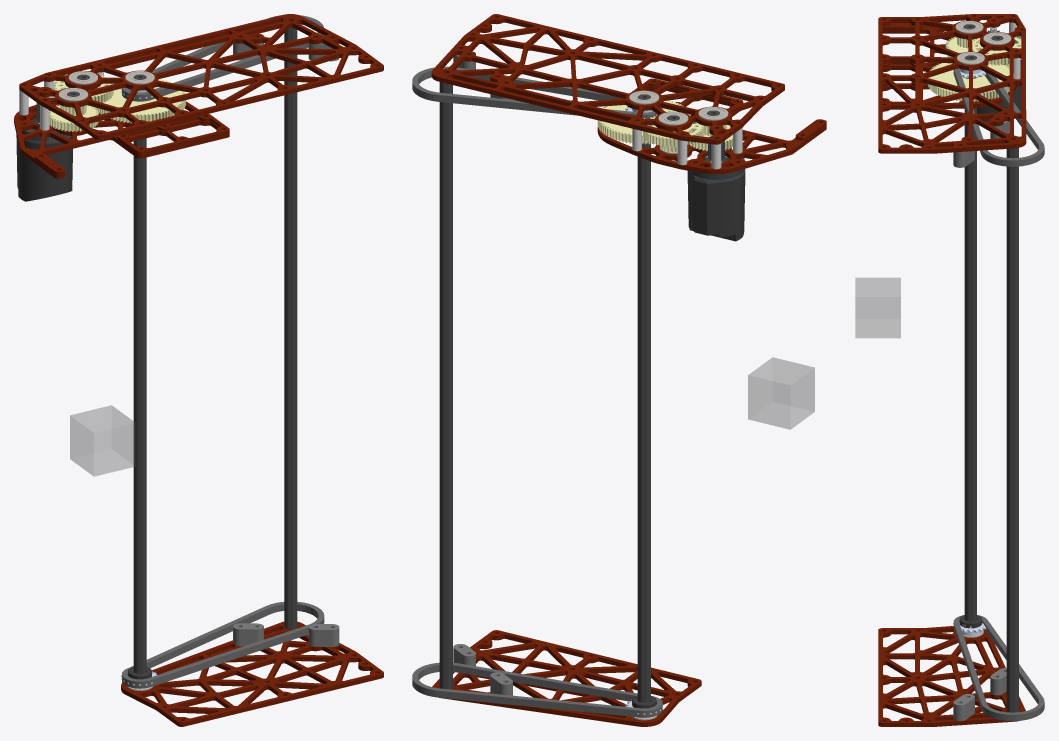
The picture shows the model from 3 angles, left to right: view 1: azimuth 30°, elevation 25°; view 2: azimuth 150°, elevation 25°; view 3: azimuth 270°, elevation 25°; orthographic projection. The views are drawn at different scales.
Visible parts, largest first — view 1: 0600-E-Plate-01, 0600-E-Plate-05, 1/2" ThunderHex (27.559 in), 1/2" ThunderHex (28.071 in), 92 links #25 chain (×2), Origin Cube, 0600-E-Plate-02, Kraken X60 Brushless Motor, 0600-E-Custom-01 (×2), 0600-E-Plate-04, 74t 20dp Aluminum 1/2" Hex Bore Gear (217-5478); view 2: 0600-E-Plate-01, 1/2" ThunderHex (27.559 in), 0600-E-Plate-05, 1/2" ThunderHex (28.071 in), 92 links #25 chain (×2), Origin Cube, 0600-E-Plate-02, Kraken X60 Brushless Motor, 74t 20dp Aluminum 1/2" Hex Bore Gear (217-5478); view 3: 0600-E-Plate-01, 0600-E-Plate-05, 1/2" ThunderHex (27.559 in), 1/2" ThunderHex (28.071 in), 92 links #25 chain (×2), Origin Cube, 0600-E-Plate-02, 74t 20dp Aluminum 1/2" Hex Bore Gear (217-5478), 0600-E-Custom-01 (×2), 48t 20dp Aluminum 1/2" Hex Bore Versakey Gear (217-3218), Kraken X60 Brushless Motor, 0600-E-Plate-04.
Boxes of the visible parts, x1=… form: 0600-E-Plate-01: x1=19, y1=14, x2=383, y2=140; 0600-E-Plate-05: x1=121, y1=621, x2=383, y2=726; 1/2" ThunderHex (27.559 in): x1=284, y1=27, x2=297, y2=629; 1/2" ThunderHex (28.071 in): x1=133, y1=74, x2=146, y2=673; 92 links #25 chain (×2): x1=122, y1=15, x2=324, y2=688; Origin Cube: x1=70, y1=405, x2=135, y2=476; 0600-E-Plate-02: x1=14, y1=101, x2=229, y2=178; Kraken X60 Brushless Motor: x1=16, y1=97, x2=72, y2=201; 0600-E-Custom-01 (×2): x1=233, y1=623, x2=339, y2=646; 0600-E-Plate-04: x1=117, y1=114, x2=229, y2=154; 74t 20dp Aluminum 1/2" Hex Bore Gear (217-5478): x1=95, y1=79, x2=185, y2=123; 0600-E-Plate-01: x1=431, y1=14, x2=784, y2=144; 1/2" ThunderHex (27.559 in): x1=439, y1=82, x2=452, y2=689; 0600-E-Plate-05: x1=432, y1=630, x2=701, y2=726; 1/2" ThunderHex (28.071 in): x1=637, y1=94, x2=650, y2=702; 92 links #25 chain (×2): x1=412, y1=66, x2=662, y2=717; Origin Cube: x1=748, y1=357, x2=814, y2=429; 0600-E-Plate-02: x1=597, y1=84, x2=826, y2=174; Kraken X60 Brushless Motor: x1=687, y1=157, x2=745, y2=241; 74t 20dp Aluminum 1/2" Hex Bore Gear (217-5478): x1=597, y1=100, x2=690, y2=144; 0600-E-Plate-01: x1=878, y1=14, x2=1026, y2=153; 0600-E-Plate-05: x1=878, y1=626, x2=1025, y2=726; 1/2" ThunderHex (27.559 in): x1=1006, y1=148, x2=1018, y2=712; 1/2" ThunderHex (28.071 in): x1=964, y1=55, x2=976, y2=626; 92 links #25 chain (×2): x1=953, y1=65, x2=1044, y2=721; Origin Cube: x1=855, y1=278, x2=900, y2=337; 0600-E-Plate-02: x1=882, y1=25, x2=1021, y2=108; 74t 20dp Aluminum 1/2" Hex Bore Gear (217-5478): x1=927, y1=63, x2=1014, y2=101; 0600-E-Custom-01 (×2): x1=953, y1=668, x2=1006, y2=721; 48t 20dp Aluminum 1/2" Hex Bore Versakey Gear (217-3218): x1=972, y1=37, x2=1021, y2=65; Kraken X60 Brushless Motor: x1=977, y1=27, x2=1021, y2=121; 0600-E-Plate-04: x1=882, y1=62, x2=922, y2=103.
Bounding box in the file's own units: 0.4066 × 0.7132 × 0.2107.
